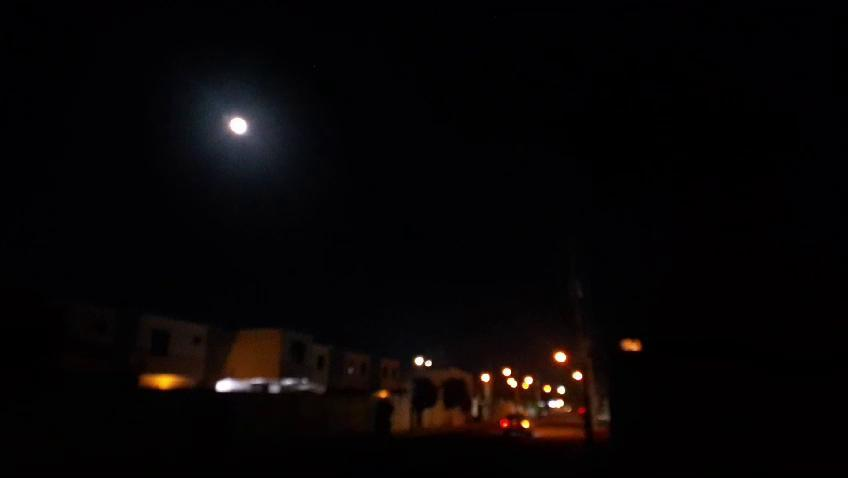moon: (224, 111, 250, 136)
